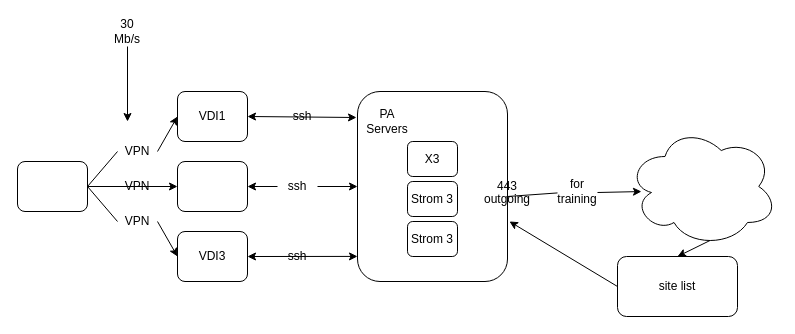
Image size: 795x334. Some labels were removed from this diagram. The box of each missing label's shape, as (x1, y1, x2, y2) in pixels:
Intenet: (626, 126, 778, 246)
PA: (16, 160, 88, 212)
VDI2: (176, 160, 248, 212)
